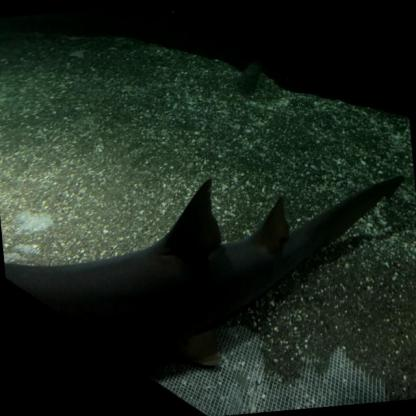shark: (0, 159, 415, 385)
